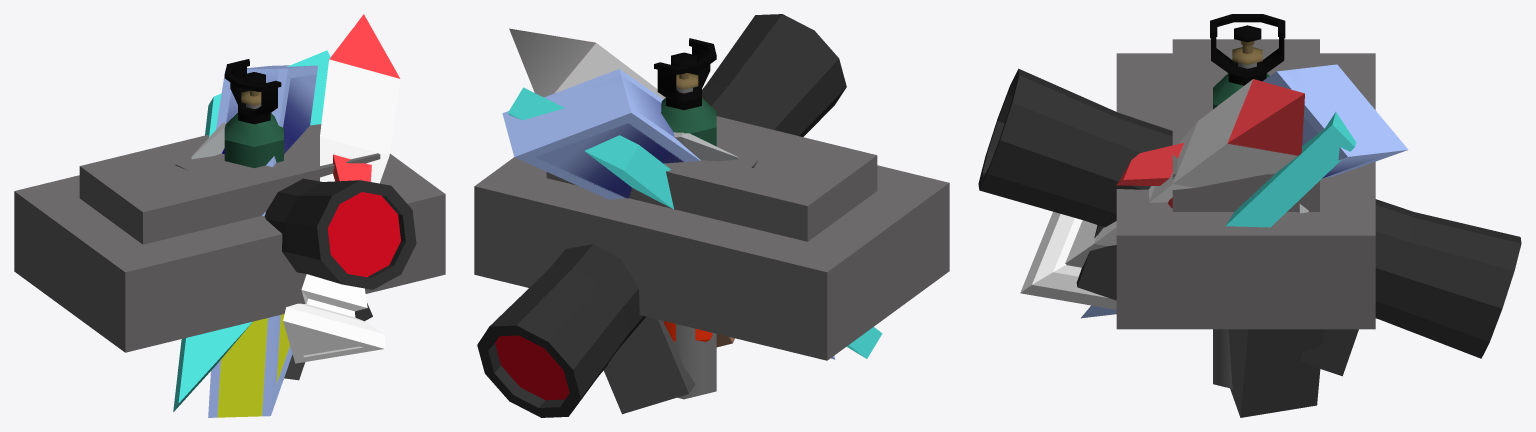
The model's file is item_icon_perspective.glb.
The picture shows the model from 3 angles, left to right: view 1: azimuth 30°, elevation 25°; view 2: azimuth 150°, elevation 25°; view 3: azimuth 270°, elevation 25°; orthographic projection. The views are drawn at different scales.
Parts seen in each view (by area): view 1: Cube.001, Rocket, Cylinder, LightingBolt, Circle, Cube.002, PickAxe.001; view 2: Cube.001, Cylinder, LightingBolt, Circle, Pistol, Rocket, Cube.002, PickAxe.001; view 3: Cube.001, Cylinder, Rocket, Pistol, LightingBolt, Cube.002, Circle.
Part boxes in pixels (left/top/right/bottom): Cube.001: left=14, top=124, right=445, bottom=352; Rocket: left=283, top=14, right=400, bottom=363; Cylinder: left=264, top=178, right=416, bottom=321; LightingBolt: left=208, top=65, right=317, bottom=417; Circle: left=224, top=59, right=283, bottom=379; Cube.002: left=173, top=50, right=330, bottom=411; PickAxe.001: left=191, top=122, right=226, bottom=159; Cube.001: left=474, top=116, right=949, bottom=360; Cylinder: left=477, top=14, right=846, bottom=417; LightingBolt: left=502, top=69, right=835, bottom=359; Circle: left=654, top=38, right=716, bottom=399; Pistol: left=604, top=161, right=757, bottom=414; Rocket: left=509, top=28, right=665, bottom=99; Cube.002: left=508, top=87, right=882, bottom=358; PickAxe.001: left=673, top=132, right=739, bottom=347; Cube.001: left=1116, top=39, right=1375, bottom=329; Cylinder: left=978, top=68, right=1521, bottom=376; Rocket: left=1020, top=79, right=1304, bottom=309; Pistol: left=1228, top=329, right=1323, bottom=417; LightingBolt: left=1081, top=64, right=1408, bottom=318; Cube.002: left=1226, top=112, right=1356, bottom=227; Circle: left=1210, top=14, right=1285, bottom=388.
Bounding box in the file's own units: 1.29 × 1.24 × 1.62.
11 materials, 7 textured.
